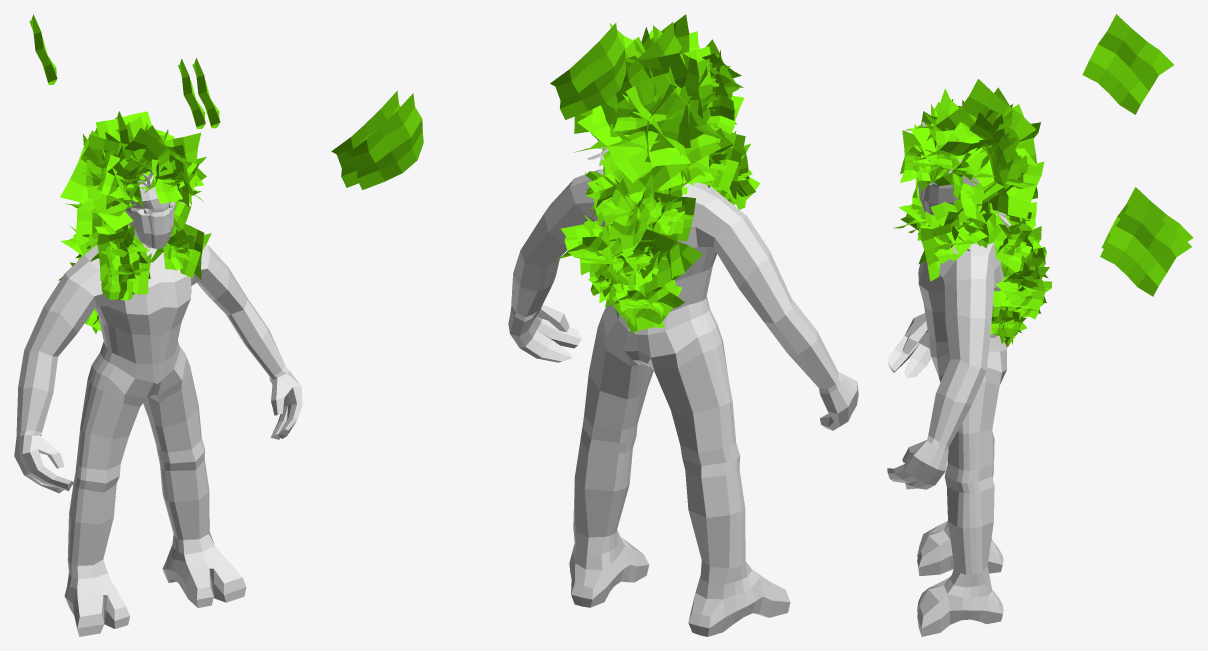
The model's file is Aya.fbx.
The picture shows the model from 3 angles, left to right: view 1: azimuth 30°, elevation 25°; view 2: azimuth 150°, elevation 25°; view 3: azimuth 270°, elevation 25°; orthographic projection. The views are drawn at different scales.
Visible parts, largest first — view 1: Body, Mane, Back, Leaf.001, Leaf.002, Leaf; view 2: Body, Mane, Back, Leaf.002, Leaf, Leaf.001; view 3: Body, Mane, Back, Leaf.001, Leaf, Leaf.002.
Boxes of the visible parts, <box> form: Body: <box>14,168,302,636</box>; Mane: <box>60,111,211,300</box>; Back: <box>58,225,101,334</box>; Leaf.001: <box>192,58,220,128</box>; Leaf.002: <box>178,59,205,128</box>; Leaf: <box>29,14,57,84</box>; Body: <box>508,169,858,636</box>; Mane: <box>574,14,760,209</box>; Back: <box>556,168,702,334</box>; Leaf.002: <box>347,93,423,189</box>; Leaf: <box>550,23,626,119</box>; Leaf.001: <box>331,90,400,187</box>; Body: <box>887,159,1007,636</box>; Mane: <box>893,79,1044,281</box>; Back: <box>978,202,1052,346</box>; Leaf.001: <box>1100,196,1191,296</box>; Leaf: <box>1082,14,1173,114</box>; Leaf.002: <box>1101,187,1193,248</box>.
Bounding box in the file's own units: 776 × 1293 × 637.
